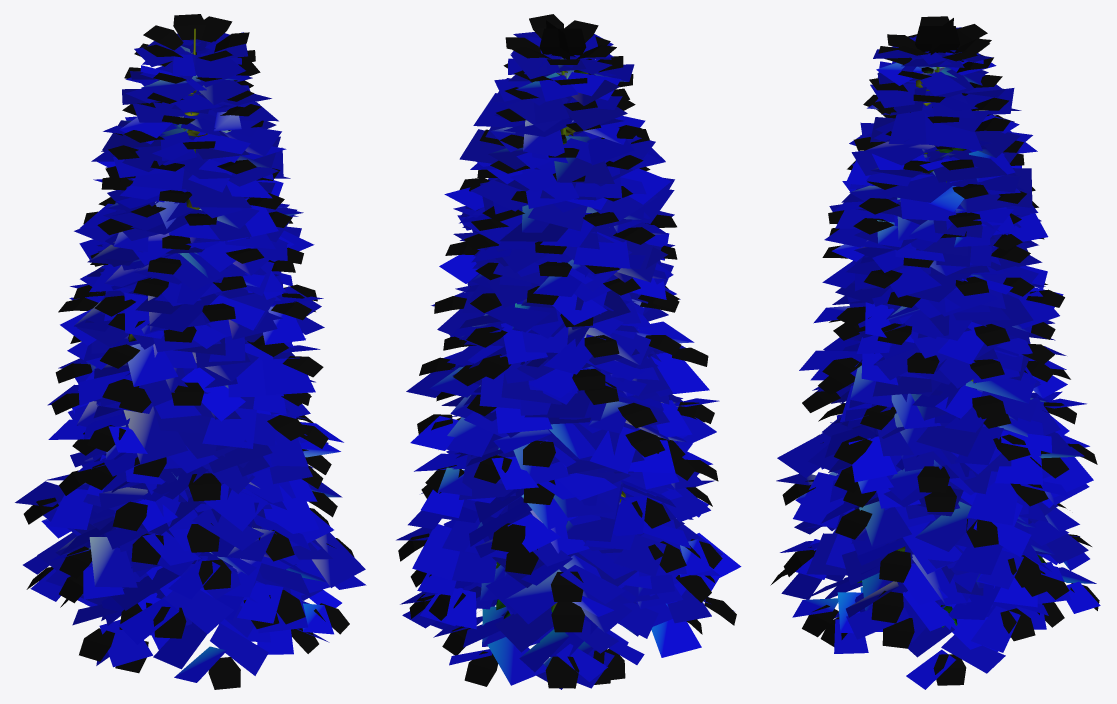
The model's file is tree_spruce_0.glb.
3 renders of one model, left to right at view 1: azimuth 30°, elevation 25°; view 2: azimuth 150°, elevation 25°; view 3: azimuth 270°, elevation 25°, orthographic. The views are drawn at different scales.
Parts seen in each view (by area): view 1: lod1_spruce_0; view 2: lod1_spruce_0; view 3: lod1_spruce_0.
Part boxes in pixels (x1=…): lod1_spruce_0: x1=15, y1=14, x2=366, y2=689; lod1_spruce_0: x1=396, y1=14, x2=741, y2=689; lod1_spruce_0: x1=770, y1=16, x2=1100, y2=689.
Bounding box in the file's own units: 4.91 × 9.94 × 5.
